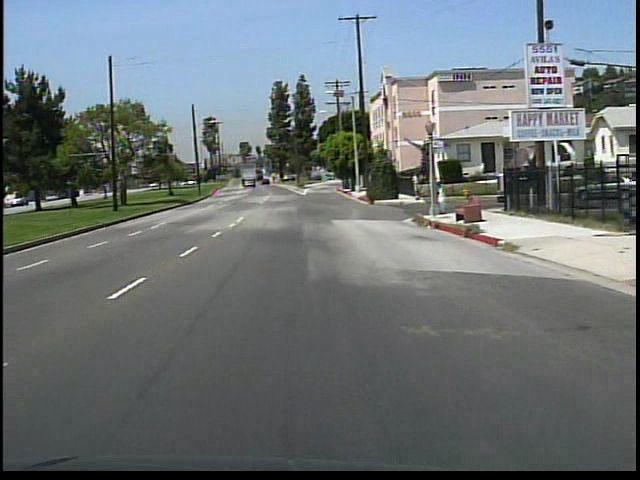person: (431, 179, 446, 218), (407, 170, 421, 200)
